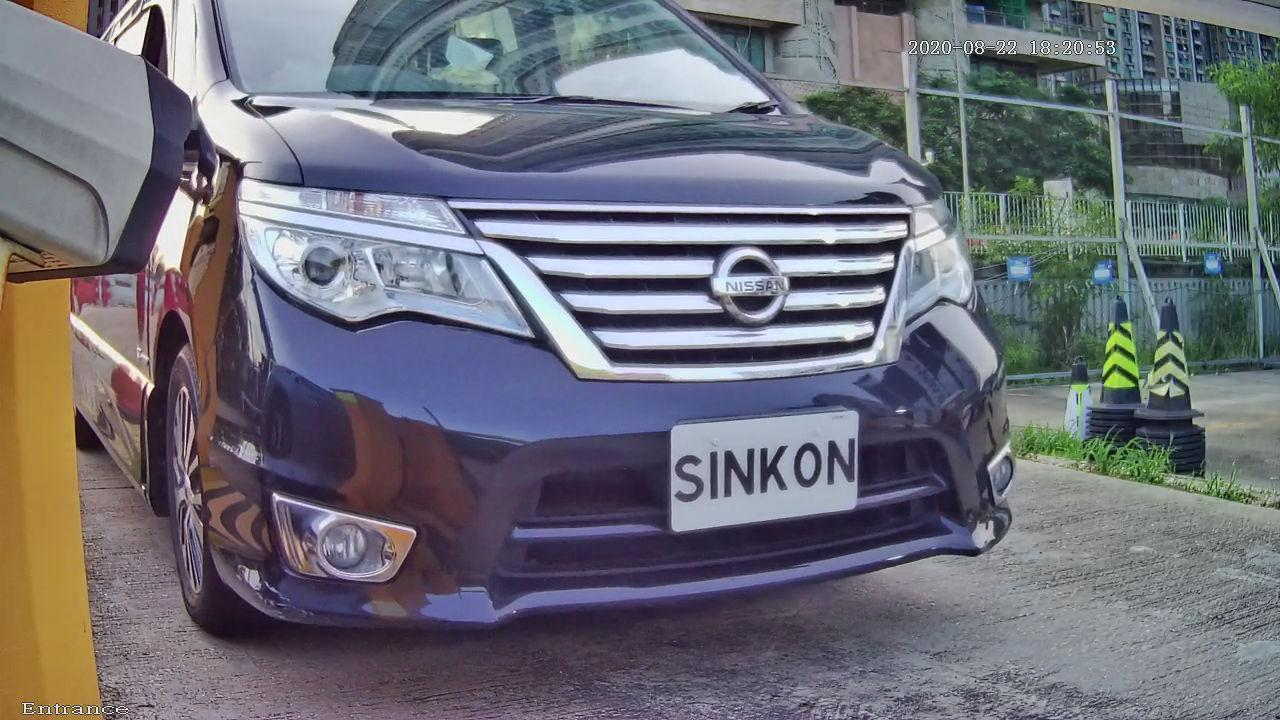Car: (58, 13, 1081, 676)
License Plate: (590, 370, 911, 573)
